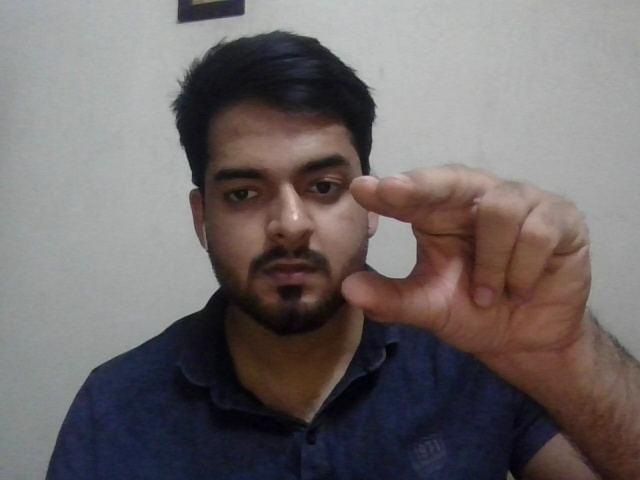no: (348, 161, 604, 349)
